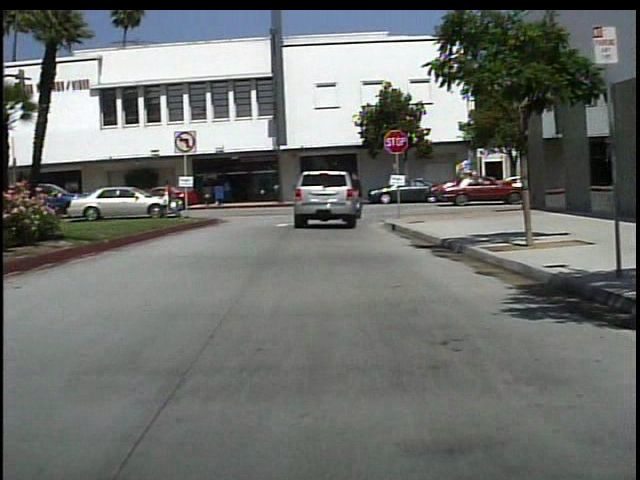person: (347, 170, 373, 225), (157, 174, 183, 219), (218, 177, 234, 206)
